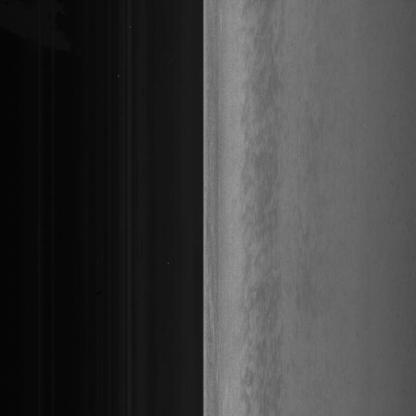silk_spot: (233, 169, 279, 298)
